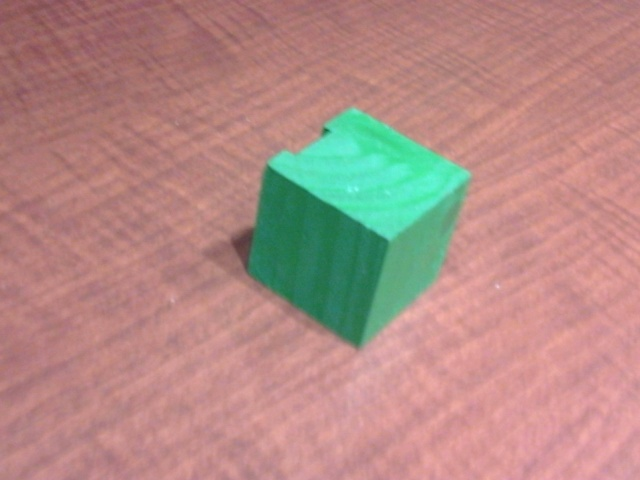GreenBlock: (246, 104, 469, 351)
